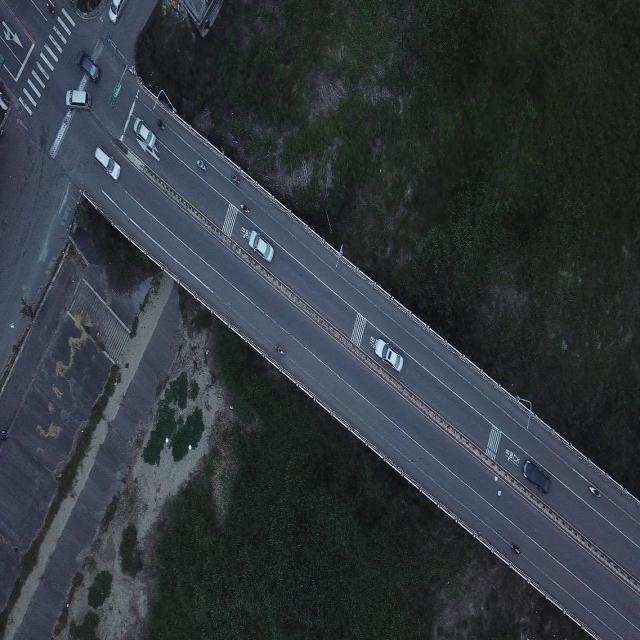bike: (586, 482, 601, 500), (508, 538, 520, 557), (240, 202, 250, 215), (196, 158, 206, 170), (275, 342, 283, 354), (156, 118, 164, 130), (232, 173, 240, 184)
car: (372, 337, 403, 373), (522, 459, 550, 494), (247, 229, 274, 263), (94, 146, 120, 180), (133, 116, 156, 150), (79, 51, 99, 82), (65, 88, 91, 110), (108, 0, 126, 23), (46, 0, 54, 14)
